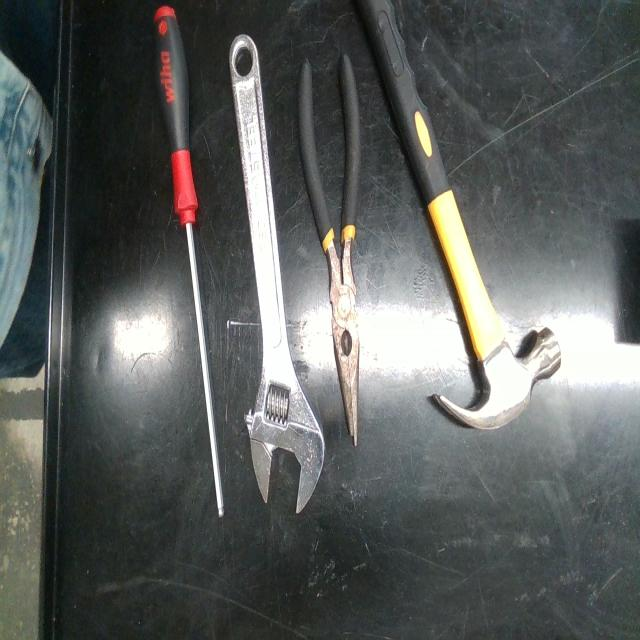Screwdriver: (154, 7, 224, 517)
